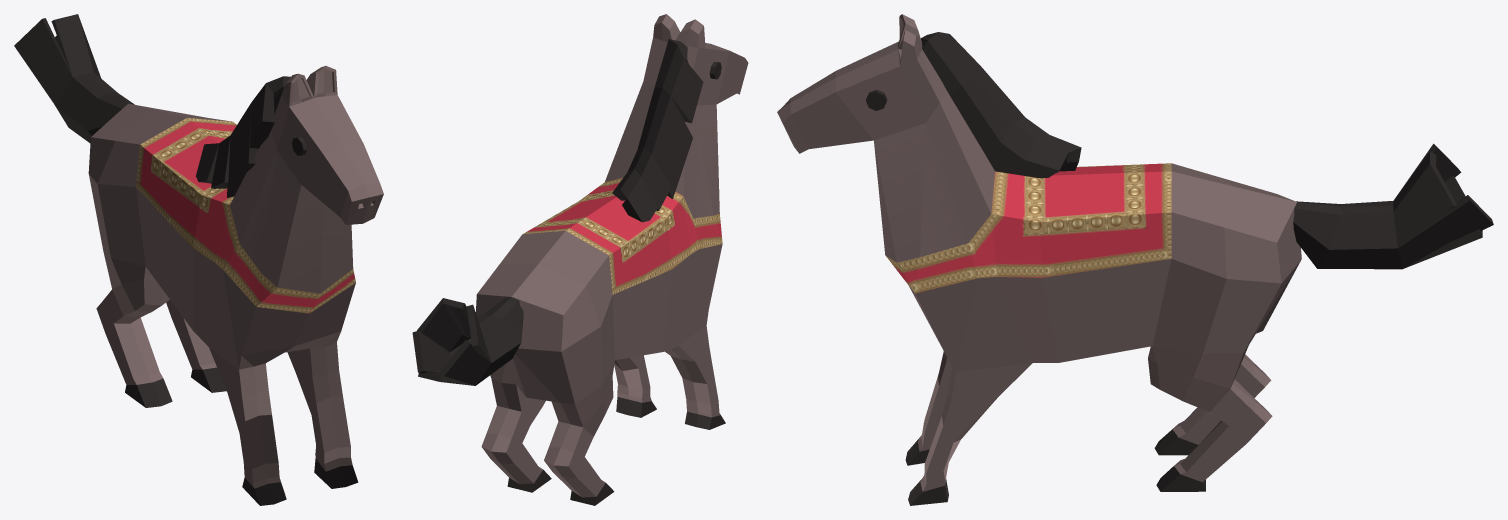
File: ngua.fbx
3 renders of one model, left to right at view 1: azimuth 30°, elevation 25°; view 2: azimuth 150°, elevation 25°; view 3: azimuth 270°, elevation 25°, orthographic. The views are drawn at different scales.
Parts seen in each view (by area): view 1: horse; view 2: horse; view 3: horse.
Part boxes in pixels (x1,y1,x2,y2): horse: (14, 14, 383, 505); horse: (412, 14, 748, 505); horse: (777, 14, 1493, 505).
Size of the model in its own units: 2.46 by 7.92 by 11.21.
Materials: 3 (1 with a texture image).
